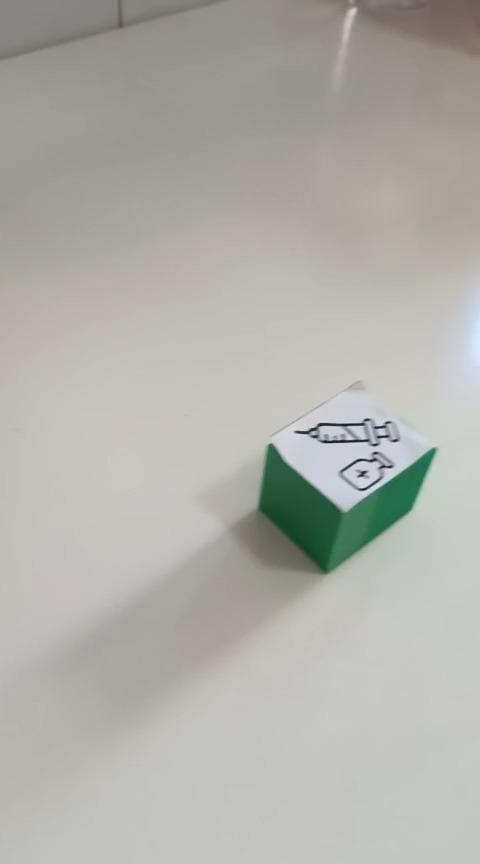antiseptic cream: (255, 378, 438, 574)
